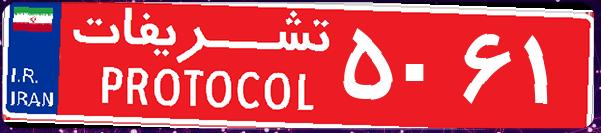0: (400, 20, 460, 115)
1: (520, 20, 580, 115)
5: (340, 20, 400, 115)
6: (460, 20, 520, 115)
تشریفات: (60, 8, 340, 125)
